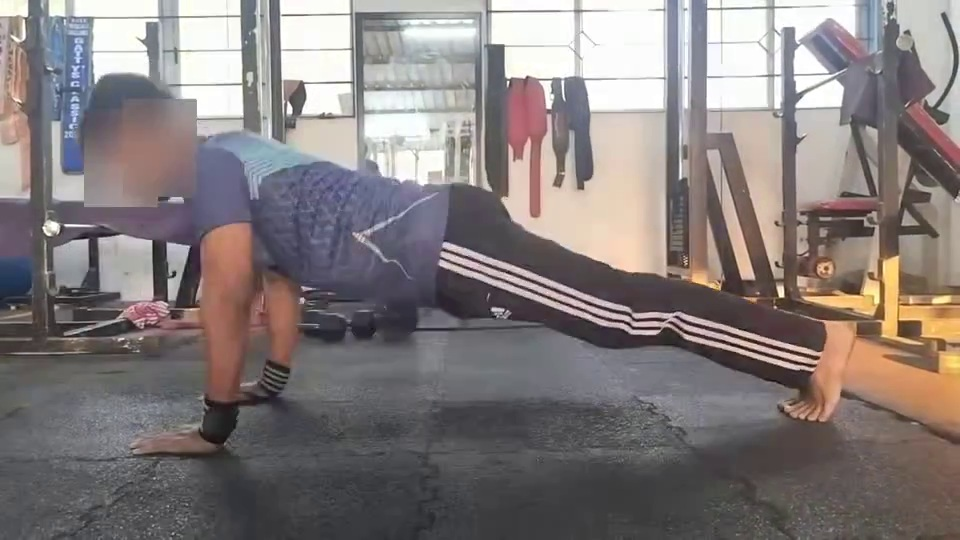push_up_correct: (68, 96, 903, 511)
